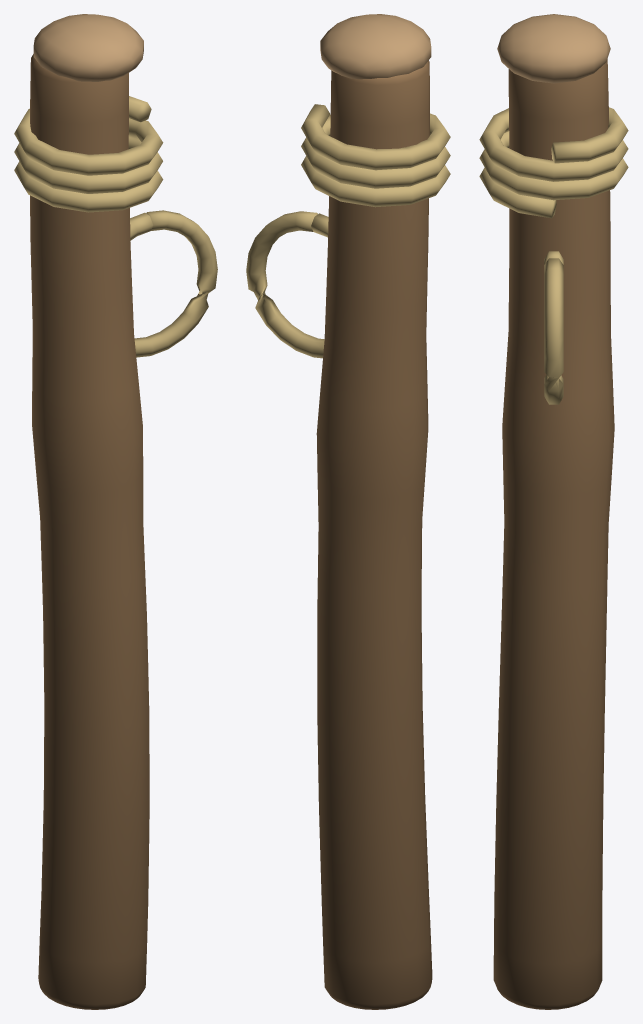
Rendered from dock_post.glb.
3 renders of one model, left to right at view 1: azimuth 30°, elevation 25°; view 2: azimuth 150°, elevation 25°; view 3: azimuth 270°, elevation 25°, orthographic.
Parts seen in each view (by area): view 1: Dock_Post_Pile, Dock_Post_RopeRing, Dock_Post_Cap; view 2: Dock_Post_Pile, Dock_Post_RopeRing, Dock_Post_Cap; view 3: Dock_Post_Pile, Dock_Post_RopeRing, Dock_Post_Cap.
Part boxes in pixels (<box>): Dock_Post_Pile: <box>30,54,149,1009</box>; Dock_Post_RopeRing: <box>14,96,217,357</box>; Dock_Post_Cap: <box>33,14,143,81</box>; Dock_Post_Pile: <box>316,60,432,1009</box>; Dock_Post_RopeRing: <box>246,104,450,358</box>; Dock_Post_Cap: <box>320,14,431,79</box>; Dock_Post_Pile: <box>493,59,614,1009</box>; Dock_Post_RopeRing: <box>479,107,628,404</box>; Dock_Post_Cap: <box>497,14,610,83</box>.
Bounding box in the file's own units: 0.5448 × 2.63 × 0.368.
